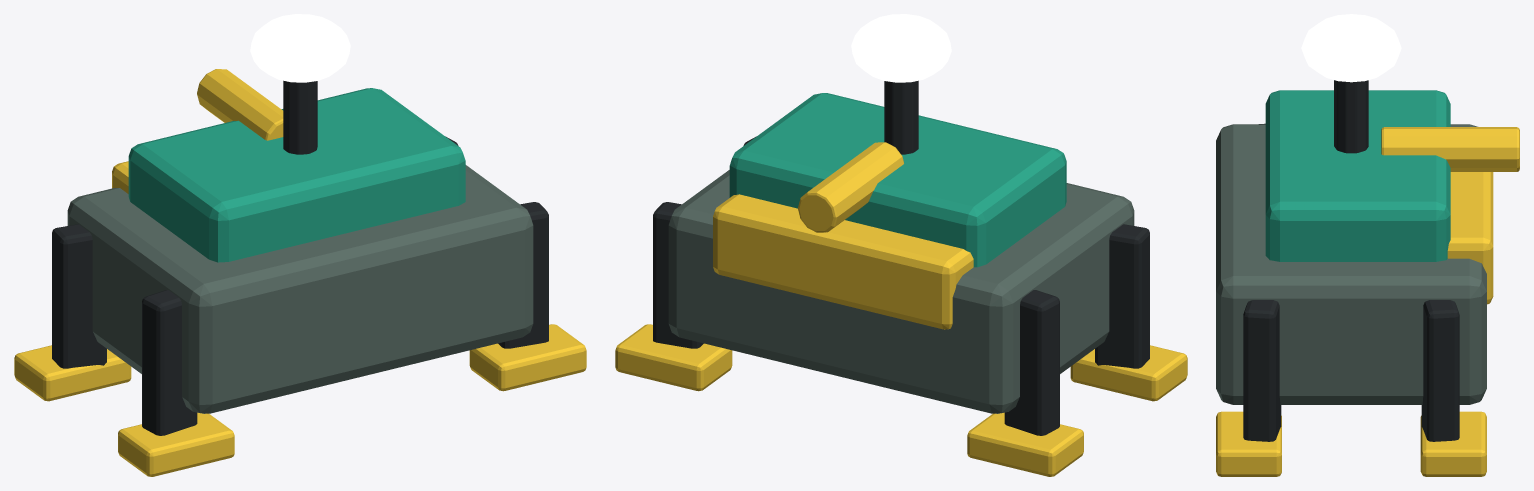
File: SM_Coalition_CO_KamakiriWalker.fbx
3 renders of one model, left to right at view 1: azimuth 30°, elevation 25°; view 2: azimuth 150°, elevation 25°; view 3: azimuth 270°, elevation 25°, orthographic.
Parts seen in each view (by area): view 1: SM_Coalition_CO_KamakiriWalker, SM_Coalition_CO_KamakiriWalker_UpperHull, SM_Coalition_CO_KamakiriWalker_Leg_-1_+1, SM_Coalition_CO_KamakiriWalker_Leg_-1_-1, SM_Coalition_CO_KamakiriWalker_Sensor, SM_Coalition_CO_KamakiriWalker_Foot_-1_-1, SM_Coalition_CO_KamakiriWalker_Foot_+1_-1, SM_Coalition_CO_KamakiriWalker_Foot_-1_+1, SM_Coalition_CO_KamakiriWalker_LightCannon, SM_Coalition_CO_KamakiriWalker_Leg_+1_-1, SM_Coalition_CO_KamakiriWalker_SensorMast; view 2: SM_Coalition_CO_KamakiriWalker, SM_Coalition_CO_KamakiriWalker_UpperHull, SM_Coalition_CO_KamakiriWalker_Glacis, SM_Coalition_CO_KamakiriWalker_Leg_-1_-1, SM_Coalition_CO_KamakiriWalker_Leg_-1_+1, SM_Coalition_CO_KamakiriWalker_Sensor, SM_Coalition_CO_KamakiriWalker_Foot_-1_+1, SM_Coalition_CO_KamakiriWalker_Foot_+1_+1, SM_Coalition_CO_KamakiriWalker_LightCannon, SM_Coalition_CO_KamakiriWalker_Foot_-1_-1, SM_Coalition_CO_KamakiriWalker_Leg_+1_+1, SM_Coalition_CO_KamakiriWalker_SensorMast; view 3: SM_Coalition_CO_KamakiriWalker, SM_Coalition_CO_KamakiriWalker_UpperHull, SM_Coalition_CO_KamakiriWalker_Sensor, SM_Coalition_CO_KamakiriWalker_Leg_+1_+1, SM_Coalition_CO_KamakiriWalker_Leg_+1_-1, SM_Coalition_CO_KamakiriWalker_LightCannon, SM_Coalition_CO_KamakiriWalker_Glacis, SM_Coalition_CO_KamakiriWalker_Foot_+1_+1, SM_Coalition_CO_KamakiriWalker_Foot_+1_-1, SM_Coalition_CO_KamakiriWalker_SensorMast.
Part boxes in pixels (x1=…): SM_Coalition_CO_KamakiriWalker: x1=67, y1=165, x2=533, y2=413; SM_Coalition_CO_KamakiriWalker_UpperHull: x1=128, y1=88, x2=465, y2=262; SM_Coalition_CO_KamakiriWalker_Leg_-1_+1: x1=52, y1=224, x2=106, y2=368; SM_Coalition_CO_KamakiriWalker_Leg_-1_-1: x1=142, y1=290, x2=197, y2=435; SM_Coalition_CO_KamakiriWalker_Sensor: x1=250, y1=14, x2=350, y2=82; SM_Coalition_CO_KamakiriWalker_Foot_-1_-1: x1=118, y1=412, x2=234, y2=476; SM_Coalition_CO_KamakiriWalker_Foot_+1_-1: x1=469, y1=324, x2=586, y2=391; SM_Coalition_CO_KamakiriWalker_Foot_-1_+1: x1=14, y1=345, x2=131, y2=401; SM_Coalition_CO_KamakiriWalker_LightCannon: x1=197, y1=69, x2=283, y2=140; SM_Coalition_CO_KamakiriWalker_Leg_+1_-1: x1=498, y1=202, x2=548, y2=348; SM_Coalition_CO_KamakiriWalker_SensorMast: x1=283, y1=80, x2=317, y2=154; SM_Coalition_CO_KamakiriWalker: x1=668, y1=170, x2=1134, y2=413; SM_Coalition_CO_KamakiriWalker_UpperHull: x1=729, y1=93, x2=1066, y2=267; SM_Coalition_CO_KamakiriWalker_Glacis: x1=713, y1=194, x2=973, y2=329; SM_Coalition_CO_KamakiriWalker_Leg_-1_-1: x1=1095, y1=224, x2=1149, y2=368; SM_Coalition_CO_KamakiriWalker_Leg_-1_+1: x1=1004, y1=290, x2=1059, y2=435; SM_Coalition_CO_KamakiriWalker_Sensor: x1=851, y1=14, x2=951, y2=82; SM_Coalition_CO_KamakiriWalker_Foot_-1_+1: x1=967, y1=412, x2=1083, y2=476; SM_Coalition_CO_KamakiriWalker_Foot_+1_+1: x1=615, y1=324, x2=732, y2=391; SM_Coalition_CO_KamakiriWalker_LightCannon: x1=798, y1=142, x2=903, y2=232; SM_Coalition_CO_KamakiriWalker_Foot_-1_-1: x1=1070, y1=345, x2=1187, y2=401; SM_Coalition_CO_KamakiriWalker_Leg_+1_+1: x1=653, y1=202, x2=703, y2=348; SM_Coalition_CO_KamakiriWalker_SensorMast: x1=884, y1=80, x2=918, y2=154; SM_Coalition_CO_KamakiriWalker: x1=1216, y1=124, x2=1486, y2=404; SM_Coalition_CO_KamakiriWalker_UpperHull: x1=1265, y1=90, x2=1450, y2=261; SM_Coalition_CO_KamakiriWalker_Sensor: x1=1301, y1=14, x2=1401, y2=82; SM_Coalition_CO_KamakiriWalker_Leg_+1_+1: x1=1421, y1=300, x2=1459, y2=441; SM_Coalition_CO_KamakiriWalker_Leg_+1_-1: x1=1243, y1=300, x2=1281, y2=441; SM_Coalition_CO_KamakiriWalker_LightCannon: x1=1381, y1=127, x2=1519, y2=171; SM_Coalition_CO_KamakiriWalker_Glacis: x1=1447, y1=172, x2=1493, y2=304; SM_Coalition_CO_KamakiriWalker_Foot_+1_+1: x1=1420, y1=411, x2=1486, y2=476; SM_Coalition_CO_KamakiriWalker_Foot_+1_-1: x1=1216, y1=411, x2=1281, y2=476; SM_Coalition_CO_KamakiriWalker_SensorMast: x1=1334, y1=80, x2=1368, y2=153.
Size of what is drawn, in the model's own units: 350 by 212 by 270.
